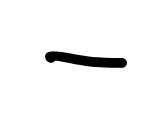minus: (44, 49, 127, 72)
